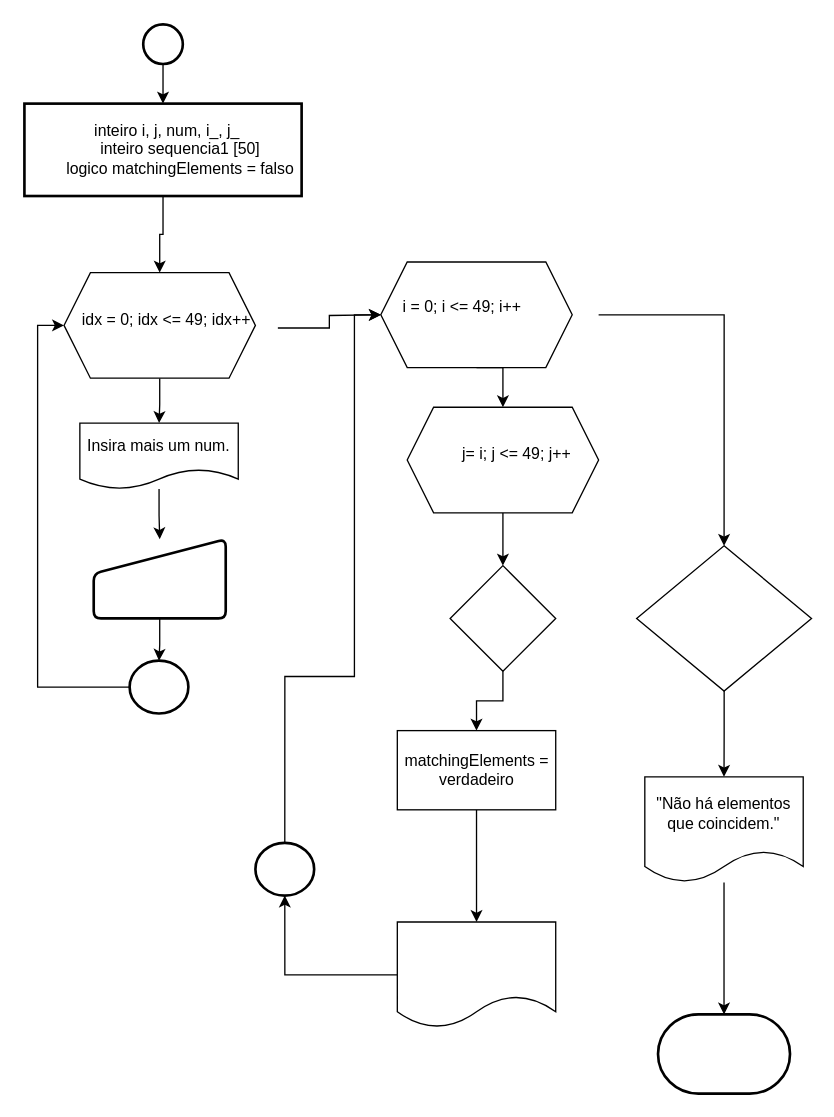
Image size: 834x1117. Some labels were removed from this diagram. Each missing label, with the box of its shape:
"Elementos coincidem" seq[i] = seq[j]: (396, 921, 556, 1028)
not matchingElements: (635, 544, 812, 691)
seq[i] = seq[j]: (449, 564, 556, 671)
sequencia [idx]: (92, 537, 226, 619)
